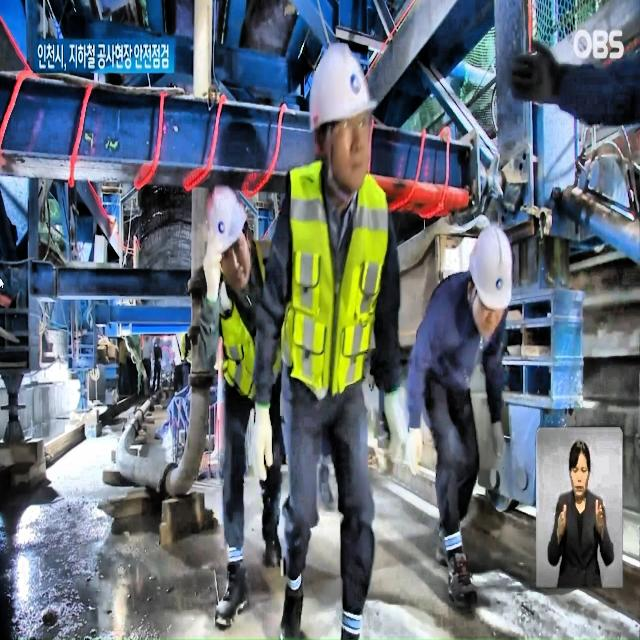safety_helmet: (308, 42, 381, 141), (468, 226, 514, 314), (198, 182, 247, 258)
safety_jacket: (278, 158, 390, 392), (214, 241, 289, 403)
